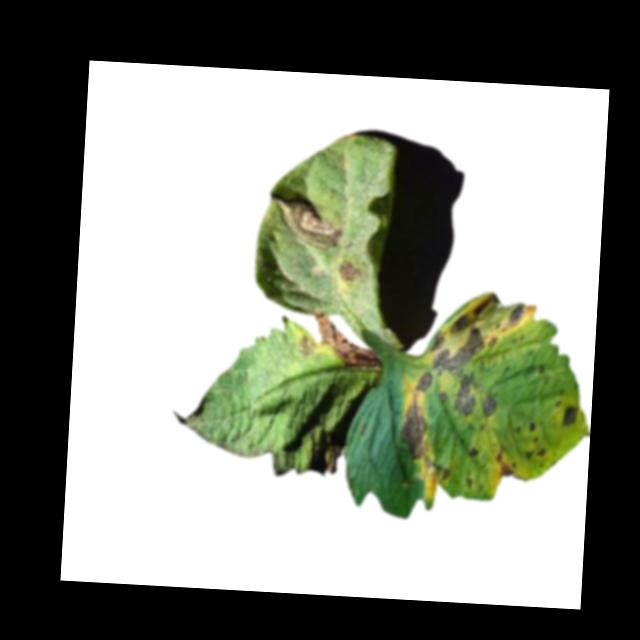Early_blight: (428, 287, 537, 381), (308, 306, 383, 370), (271, 190, 350, 250), (398, 394, 434, 462), (453, 372, 481, 416), (495, 446, 515, 481), (561, 401, 582, 427), (414, 370, 435, 394), (339, 260, 361, 281), (522, 445, 545, 461), (482, 394, 497, 416), (468, 445, 480, 457), (527, 420, 538, 433), (440, 468, 450, 481), (438, 390, 448, 402)
